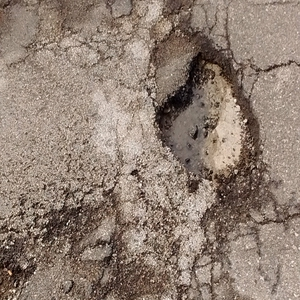pothole: (156, 45, 263, 188)
